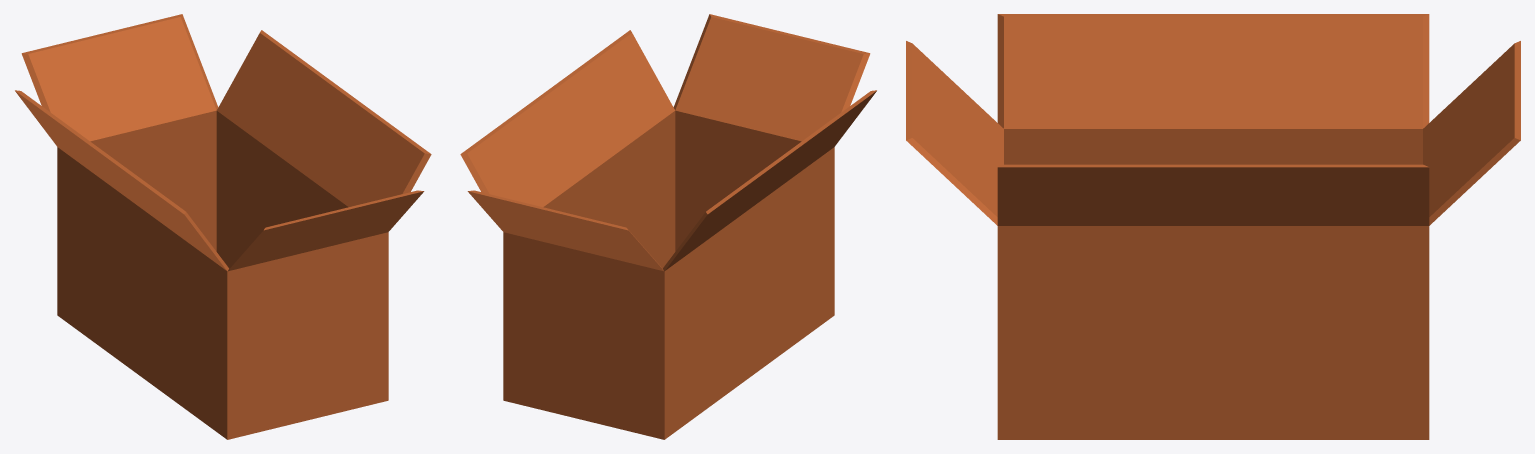
The model's file is Caixa de Papelao Gnd.fbx.
3 views of the same model, side by side, from view 1: azimuth 30°, elevation 25°; view 2: azimuth 150°, elevation 25°; view 3: azimuth 270°, elevation 25° (orthographic). The views are drawn at different scales.
Visible parts, largest first — view 1: Caixa Papelao Gnd; view 2: Caixa Papelao Gnd; view 3: Caixa Papelao Gnd.
Boxes of the visible parts, <box> form: Caixa Papelao Gnd: <box>15,14,431,439</box>; Caixa Papelao Gnd: <box>460,14,876,439</box>; Caixa Papelao Gnd: <box>906,14,1520,439</box>.
Size of the model in its own units: 122 by 111 by 206.
